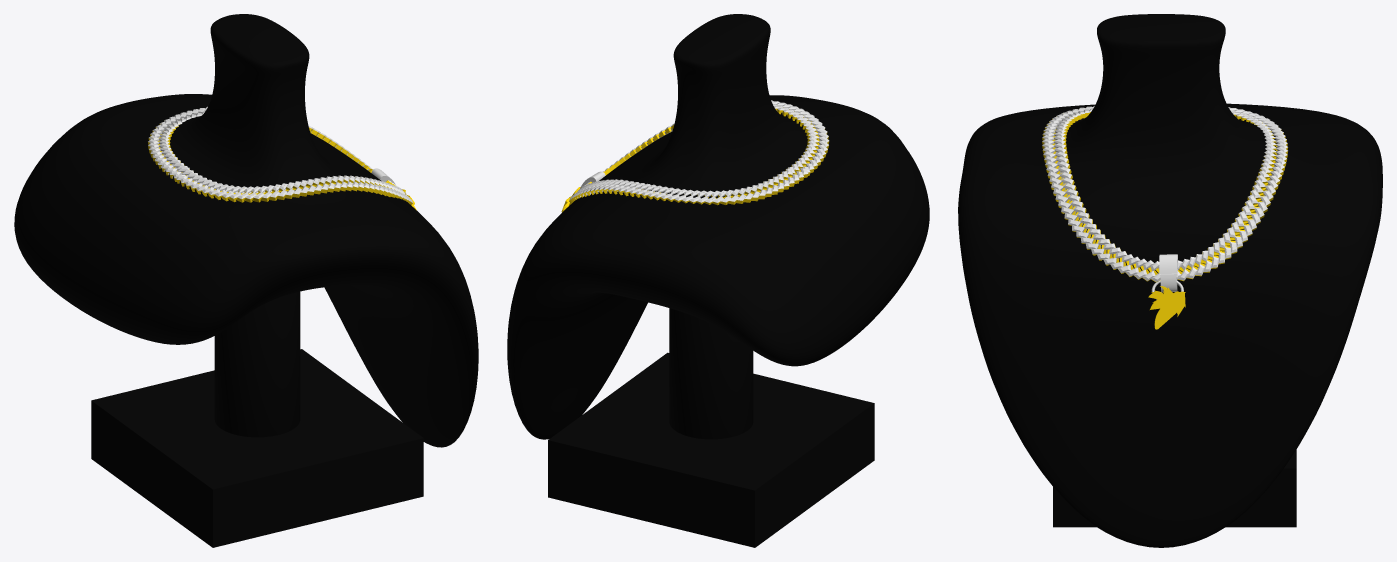
Rendered from manican chai2222n.fbx.
3 renders of one model, left to right at view 1: azimuth 30°, elevation 25°; view 2: azimuth 150°, elevation 25°; view 3: azimuth 270°, elevation 25°, orthographic.
Parts seen in each view (by area): view 1: Stand, chain; view 2: Stand, chain; view 3: Stand, chain, part.
Boxes of the visible parts, x1,y1,x2,y2 form: Stand: (14, 14, 478, 547); chain: (148, 106, 412, 204); Stand: (507, 14, 929, 547); chain: (569, 100, 829, 205); Stand: (958, 14, 1382, 547); chain: (1042, 106, 1288, 282); part: (1148, 254, 1185, 329).
Bounding box in the file's own units: 282 × 363 × 312.
